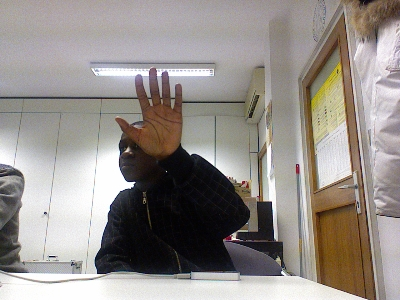布: (112, 67, 185, 156)
